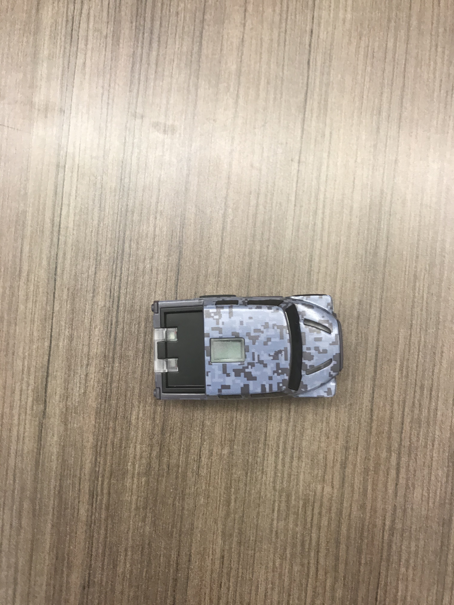MXT: (151, 292, 344, 400)
